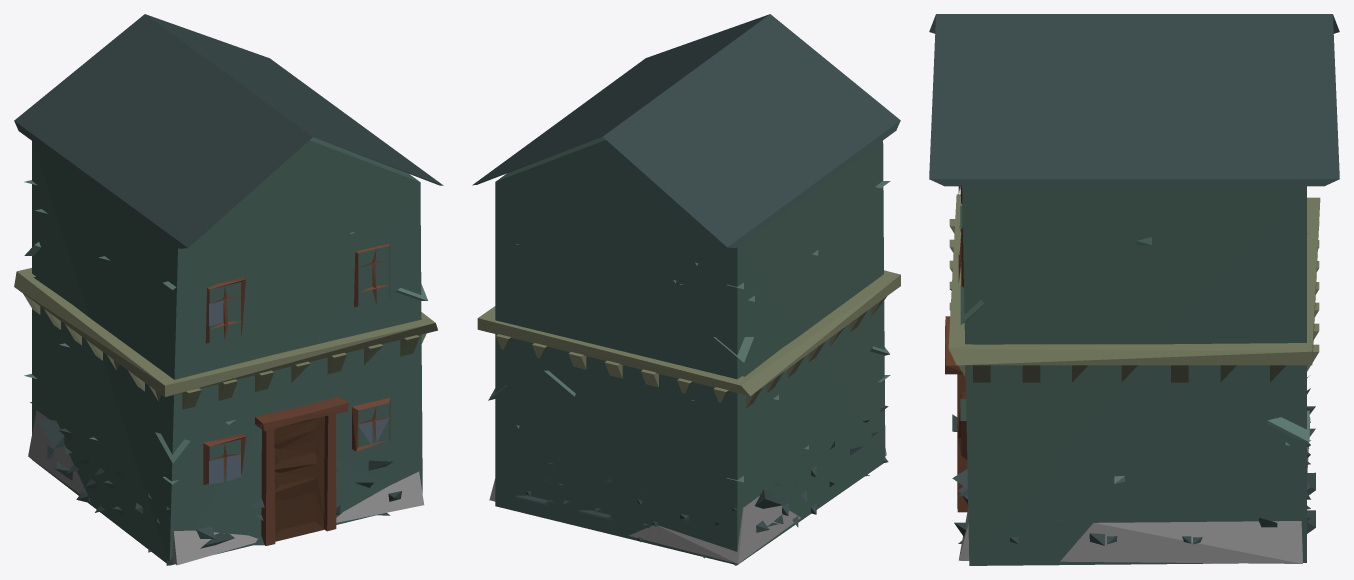
File: 2Story_GableRoof_lod.glb
The picture shows the model from 3 angles, left to right: view 1: azimuth 30°, elevation 25°; view 2: azimuth 150°, elevation 25°; view 3: azimuth 270°, elevation 25°; orthographic projection. The views are drawn at different scales.
Visible parts, largest first — view 1: 2Story_GableRoof_Mat; view 2: 2Story_GableRoof_Mat; view 3: 2Story_GableRoof_Mat.
Boxes of the visible parts, x1,y1,x2,y2 form: 2Story_GableRoof_Mat: (14, 14, 443, 565); 2Story_GableRoof_Mat: (472, 14, 900, 565); 2Story_GableRoof_Mat: (929, 14, 1339, 565).
Size of the model in its own units: 2.16 by 3.07 by 2.38.
